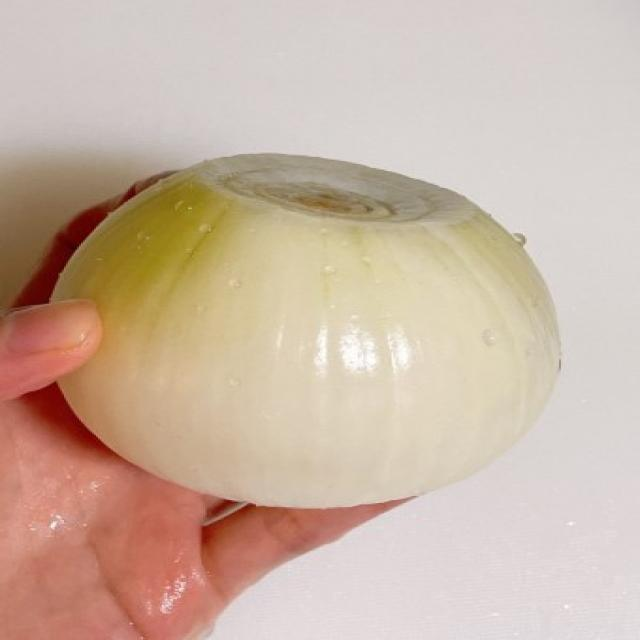onion: (31, 138, 586, 532)
